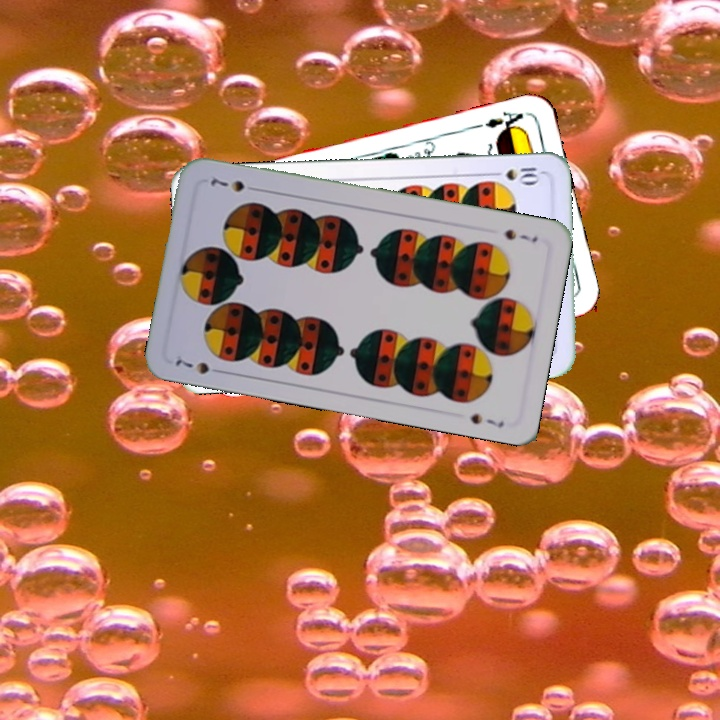EA: (481, 107, 526, 136)
S10: (485, 163, 544, 185)
S7: (171, 354, 227, 377), (500, 225, 540, 245)
